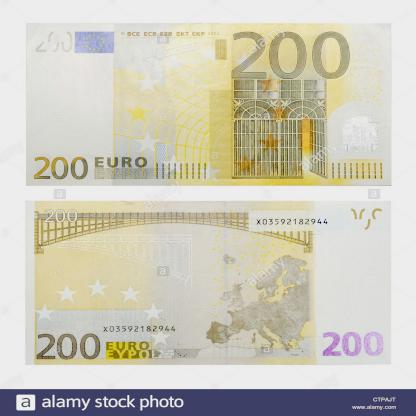euro_banknote: (24, 201, 393, 365), (27, 24, 394, 188)
